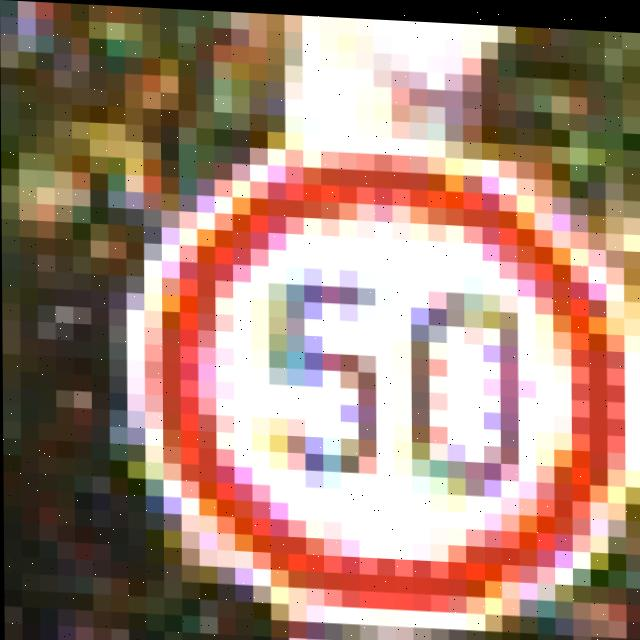speed_limit_50: (125, 57, 640, 606)
